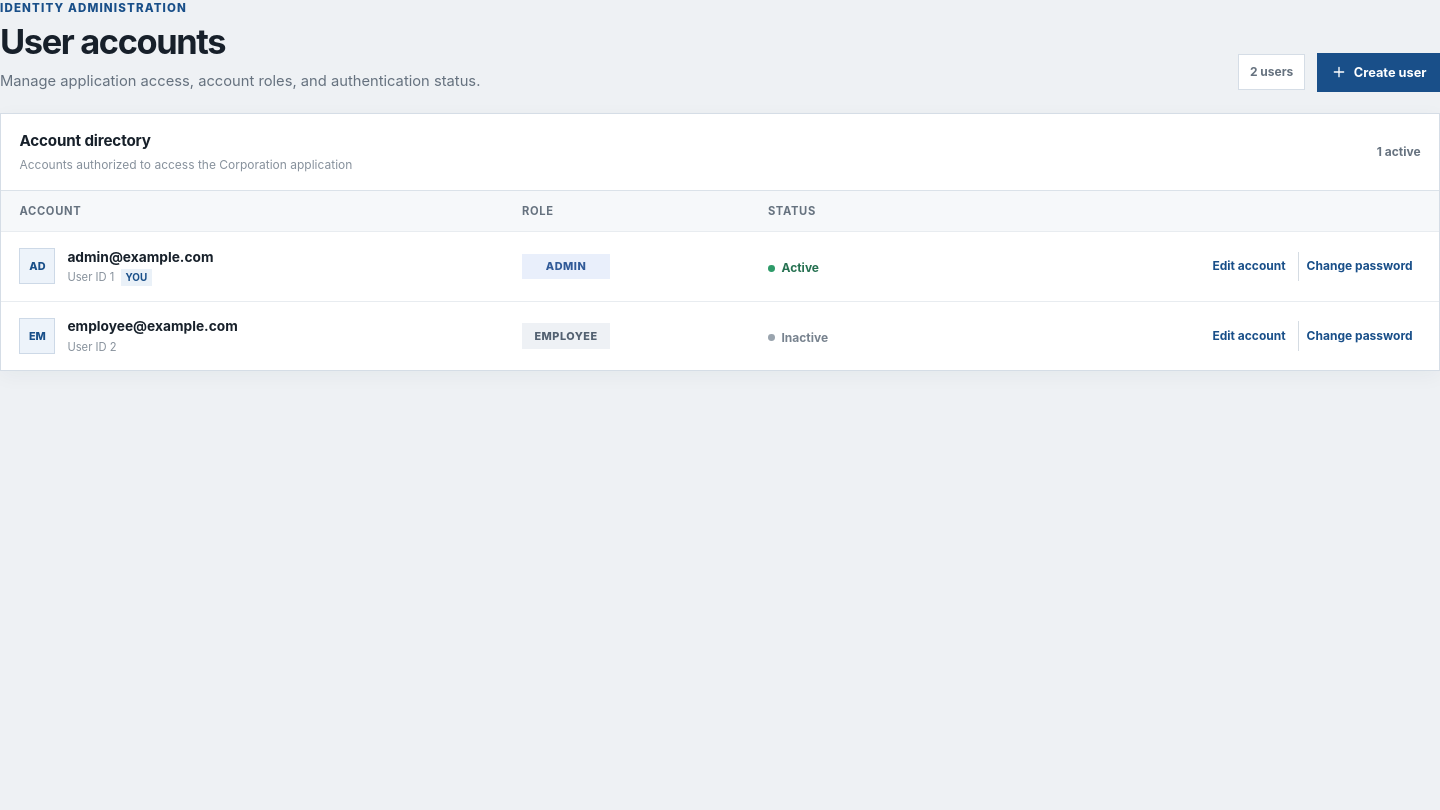
Test: AdminUsersPage › creates an account and renders success feedback
Expected: the text "employee@example.com" is shown, [67, 316, 238, 337]
Click the button "Create user" at (1379,72), box [1317, 52, 1439, 92]
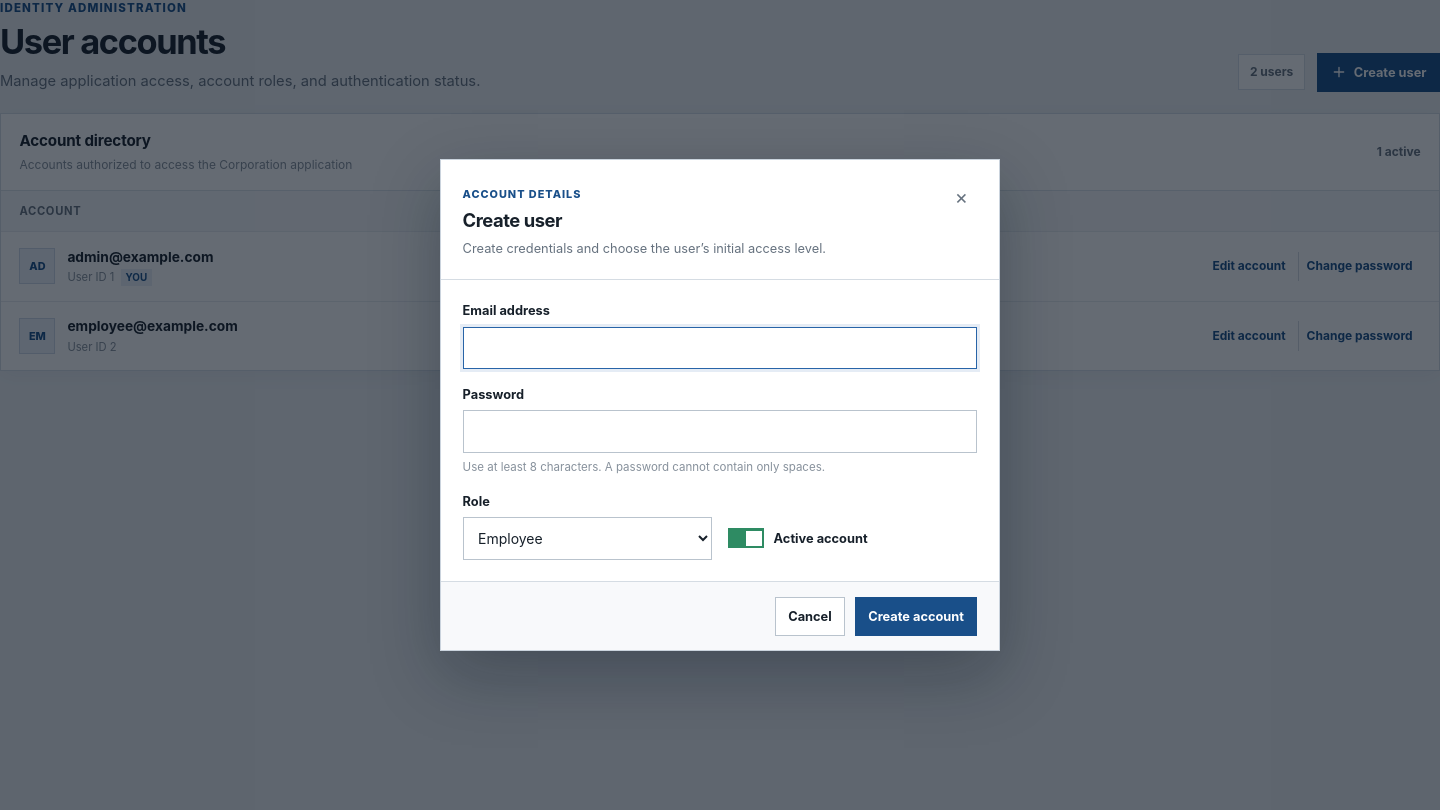
Type "manager@example.com" into the field labelled "Email address" at (720,348), box [463, 326, 977, 369]
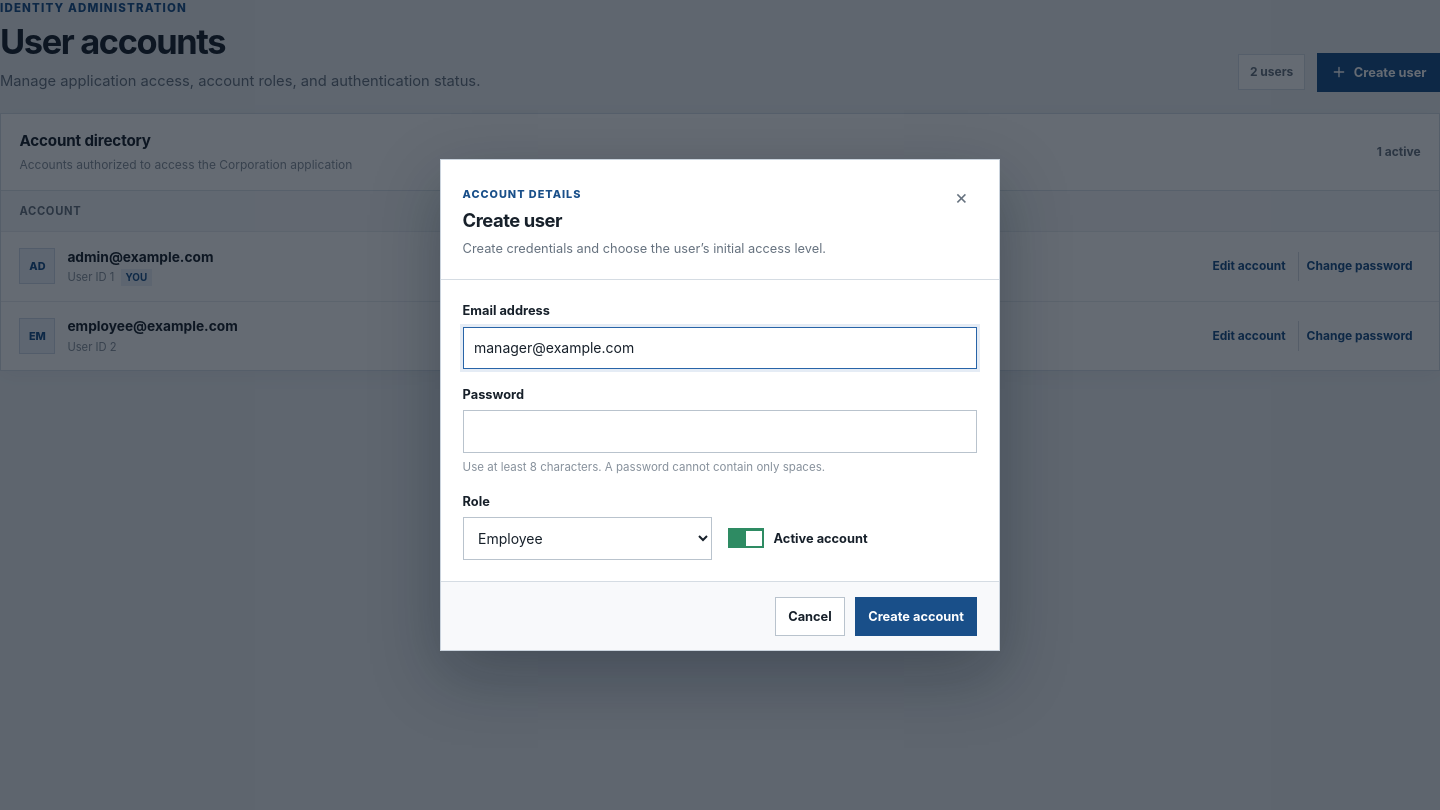
Type "valid-pass" into the password field labelled "Password" at (720,431), box [463, 410, 977, 453]
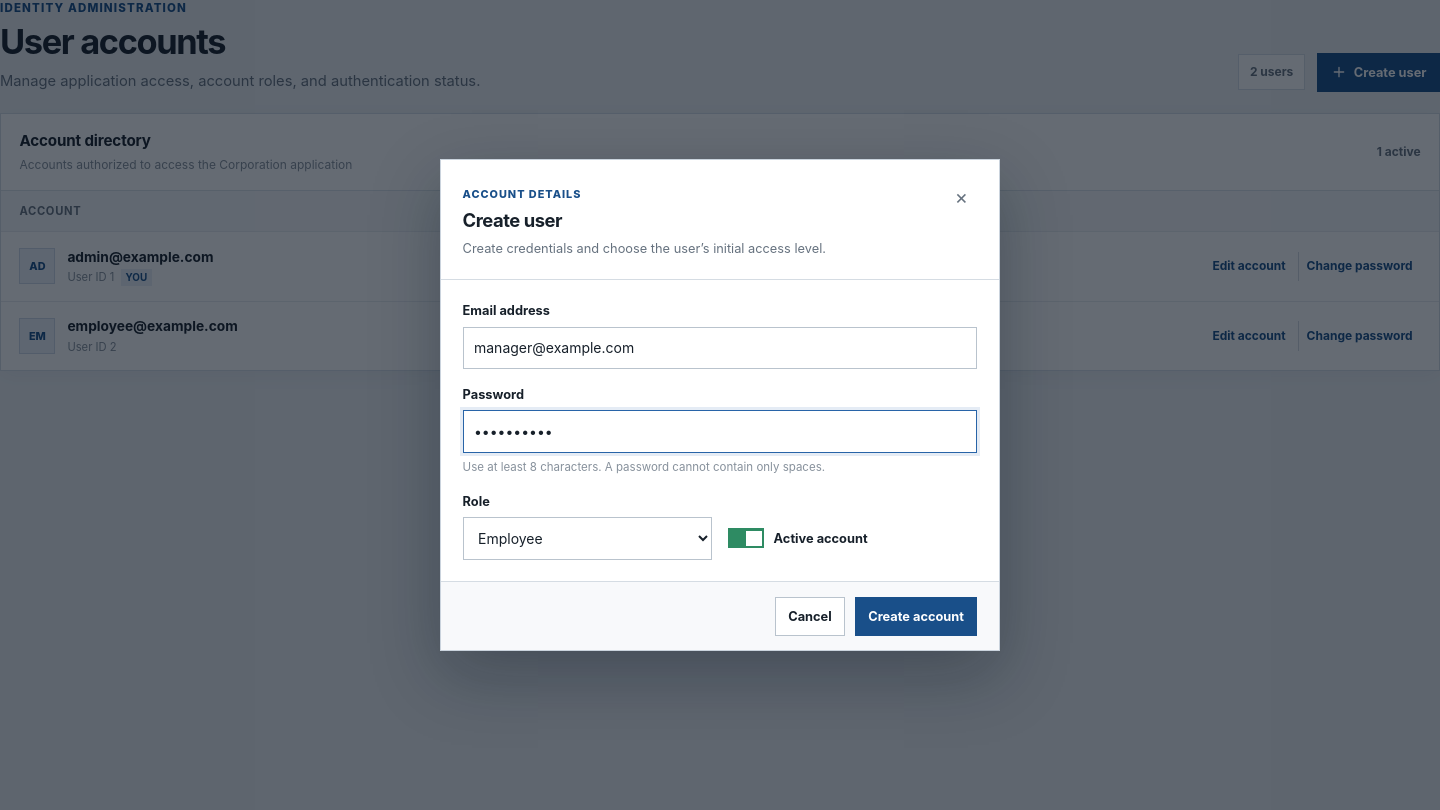
Select "Manager" in the dropdown labelled "Role" at (587,538), box [463, 517, 712, 560]
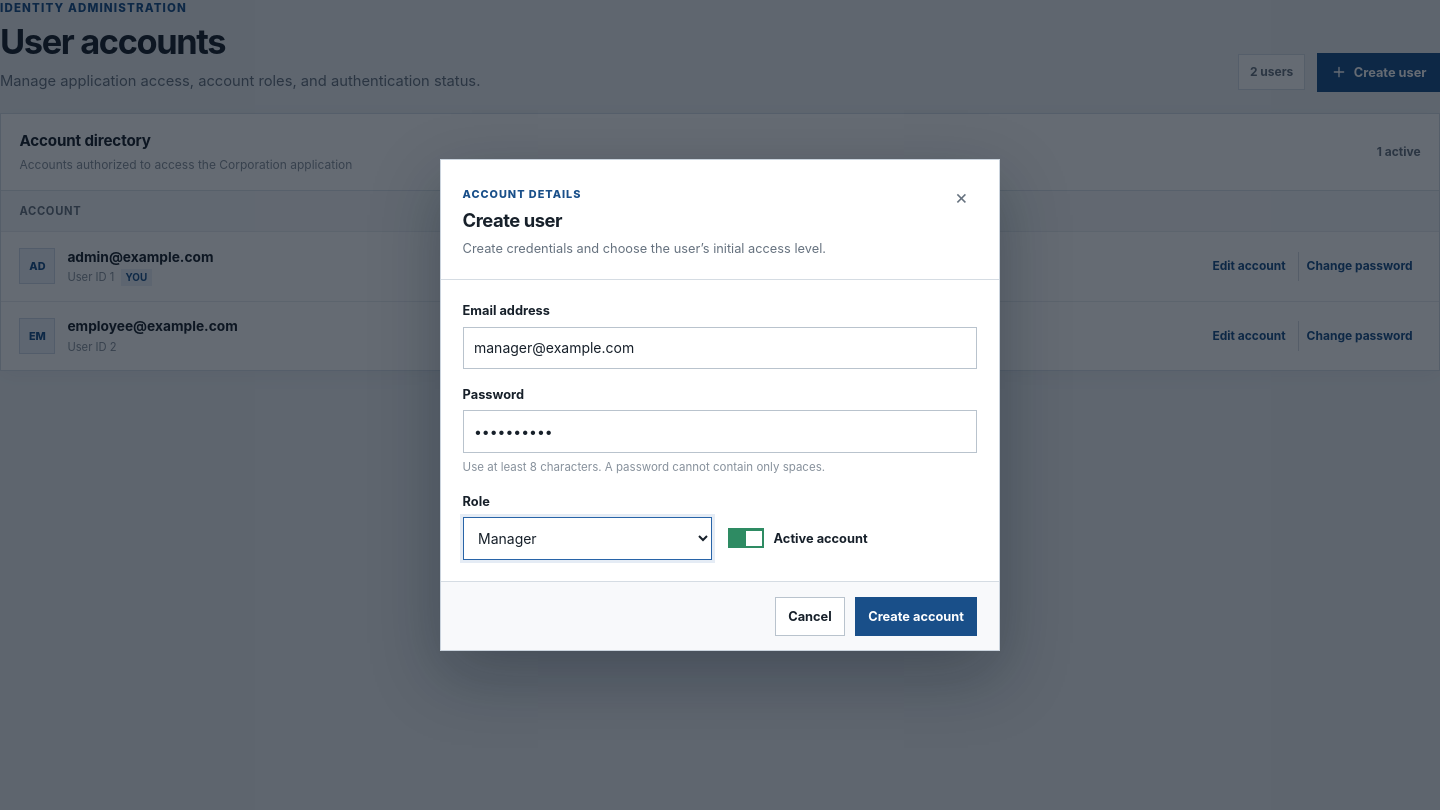
Click the button "Create account" at (916,616), box [855, 596, 978, 636]
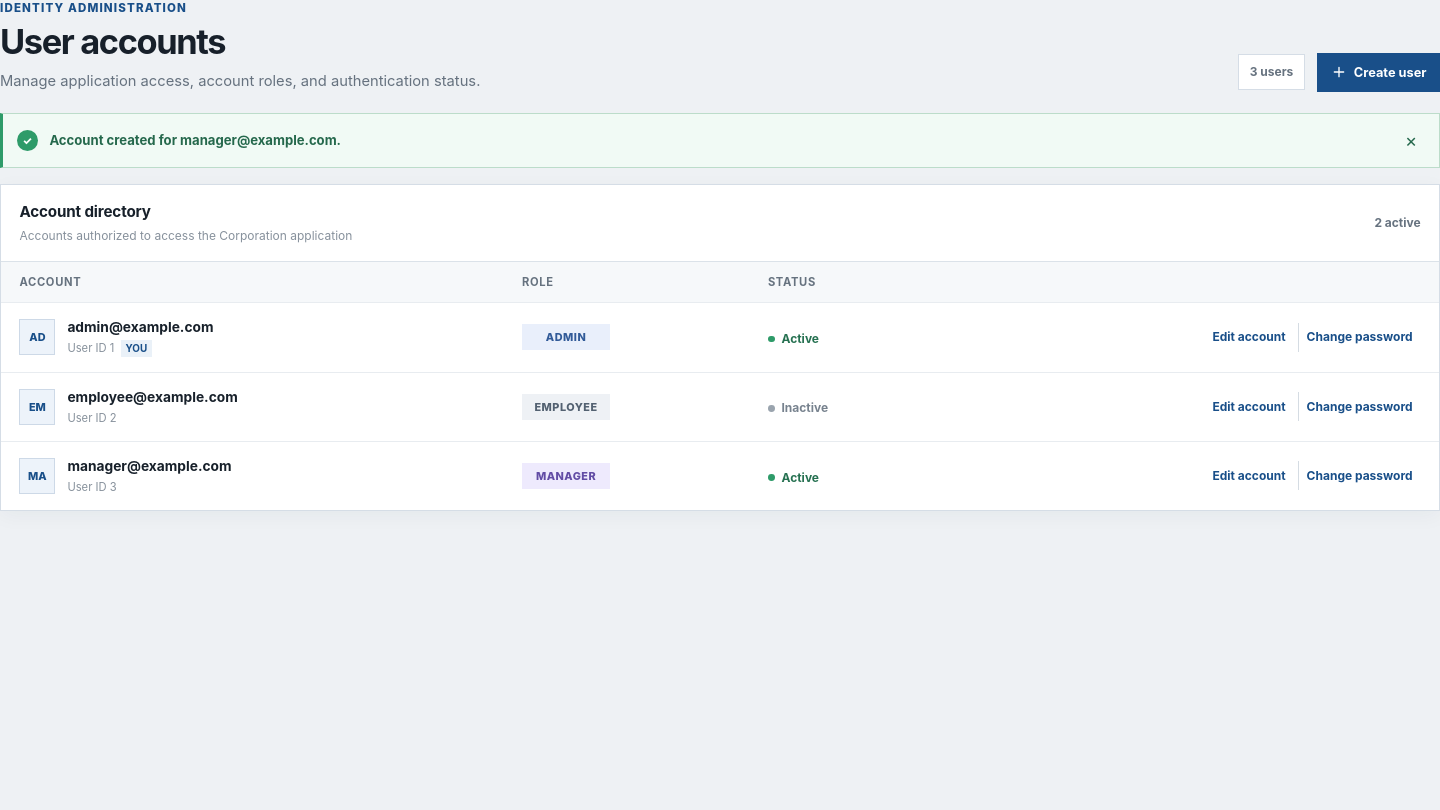
Result: the text "manager@example.com" is shown at [67, 456, 232, 477]
Result: the message shows "Account created for manager@example.com." at [49, 132, 341, 148]
